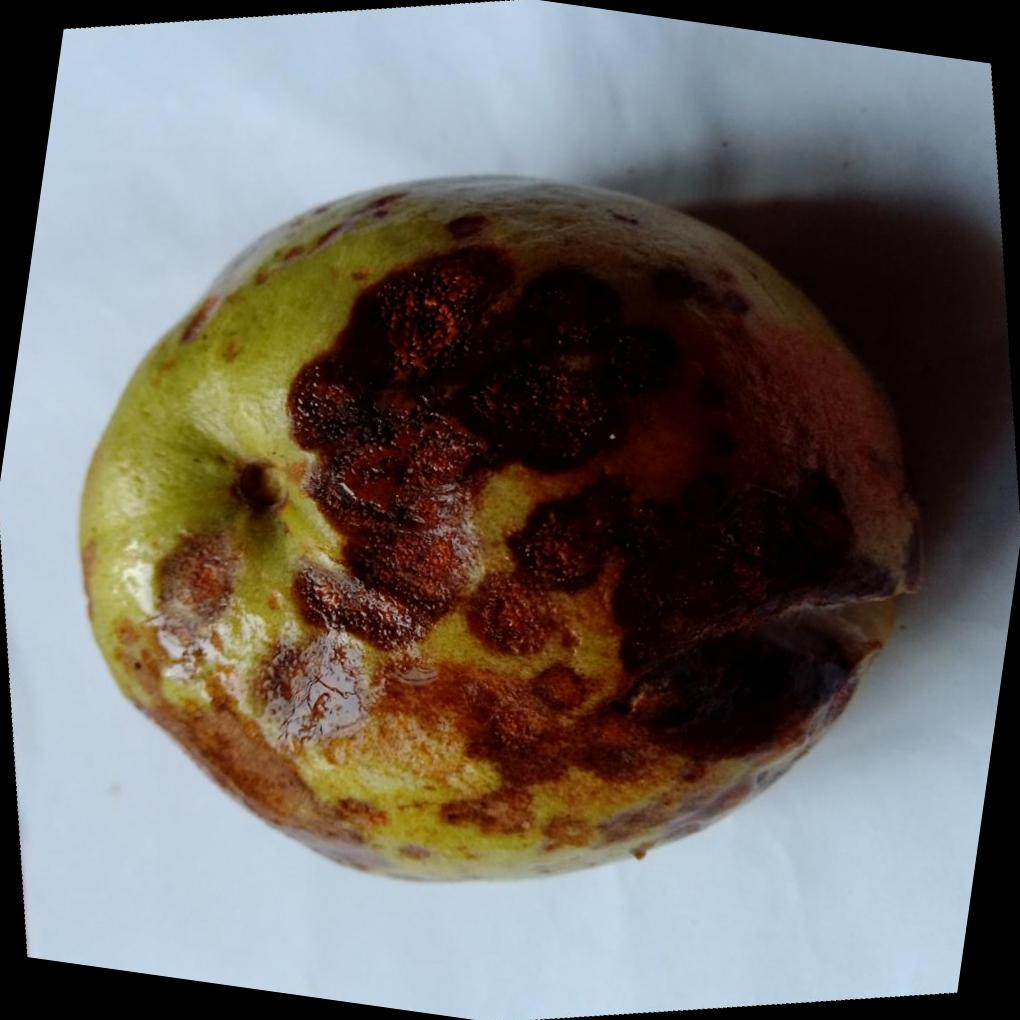FreshOrange: (76, 169, 926, 882)
